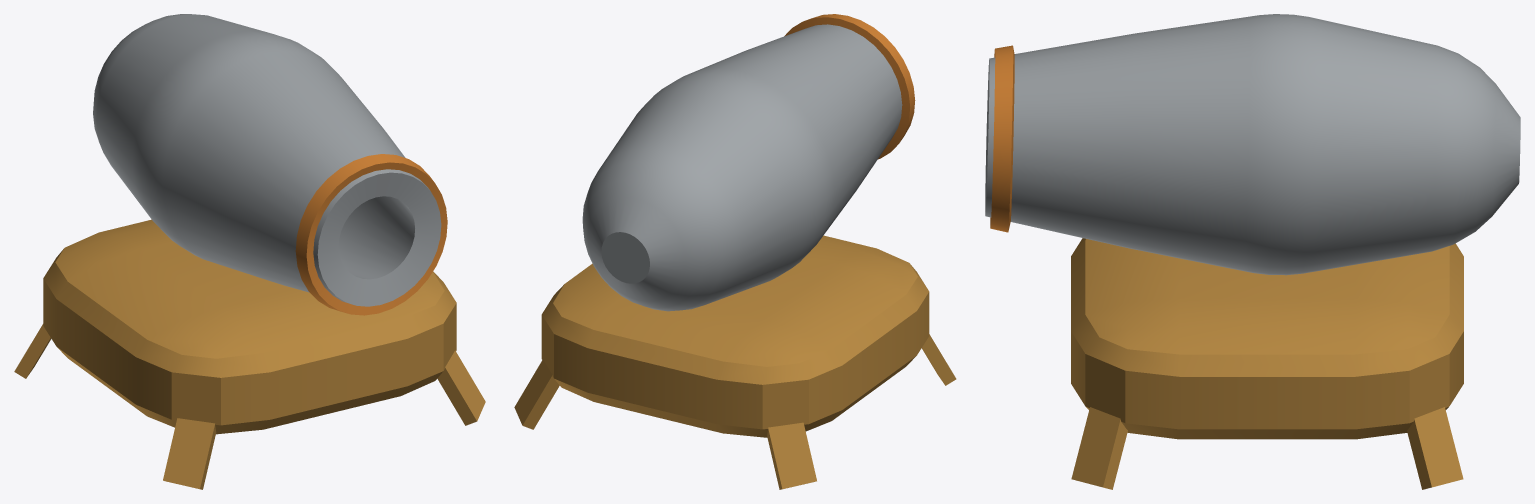
File: top.fbx
3 views of the same model, side by side, from view 1: azimuth 30°, elevation 25°; view 2: azimuth 150°, elevation 25°; view 3: azimuth 270°, elevation 25° (orthographic). The views are drawn at different scales.
Visible parts, largest first — view 1: top2, tahta1, top1, tahta2; view 2: top2, tahta1, tahta2, top1; view 3: top2, tahta1, tahta2, top1.
Boxes of the visible parts, x1,y1,x2,y2 form: top2: [93, 14, 441, 306]; tahta1: [43, 219, 456, 434]; top1: [295, 154, 447, 315]; tahta2: [14, 324, 485, 489]; top2: [582, 24, 902, 311]; tahta1: [541, 235, 929, 437]; tahta2: [514, 334, 956, 489]; top1: [784, 14, 915, 159]; top2: [985, 14, 1520, 275]; tahta1: [1071, 238, 1463, 439]; tahta2: [1071, 407, 1463, 489]; top1: [990, 45, 1014, 232].
Bounding box in the file's own units: 189 × 195 × 245.
